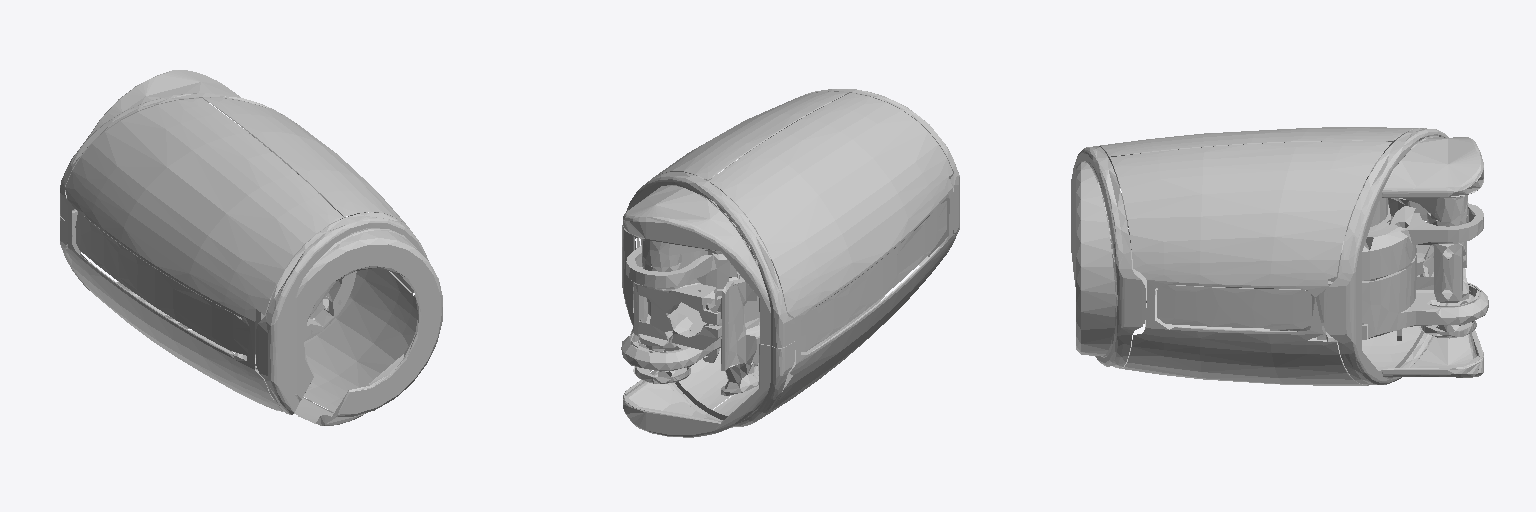
Rendered from sim_ecub_1-1_l_upperarm.obj.
3 renders of one model, left to right at view 1: azimuth 30°, elevation 25°; view 2: azimuth 150°, elevation 25°; view 3: azimuth 270°, elevation 25°, orthographic.
Size of the model in its own units: 107 by 107 by 174.